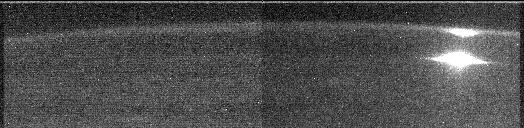negative: (446, 26, 480, 39)
